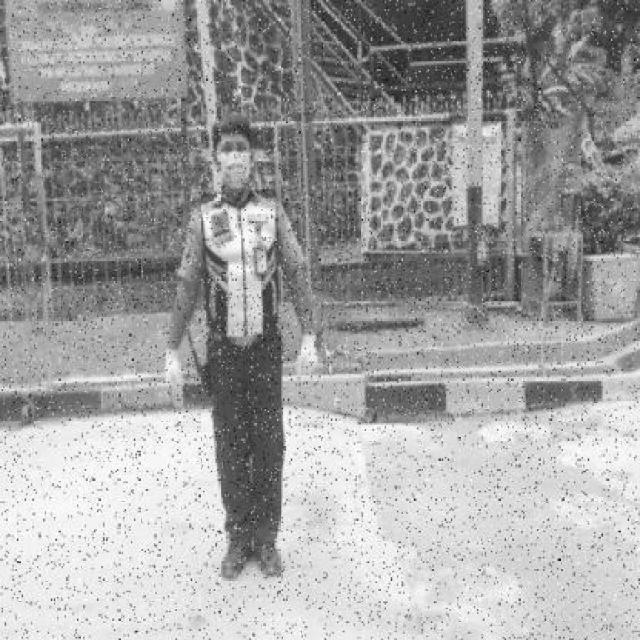Boots: (218, 543, 254, 582), (252, 540, 283, 578)
Gloves: (293, 332, 322, 376), (162, 347, 186, 395)
Mask: (220, 154, 252, 188)
